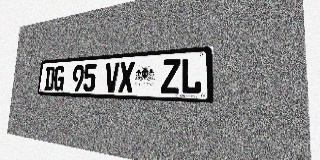5: (83, 64, 97, 92)
9: (71, 64, 85, 91)
D: (44, 66, 55, 91)
G: (53, 66, 65, 91)
L: (180, 57, 202, 94)
V: (104, 62, 120, 92)
X: (118, 61, 135, 93)
Z: (161, 58, 180, 94)
